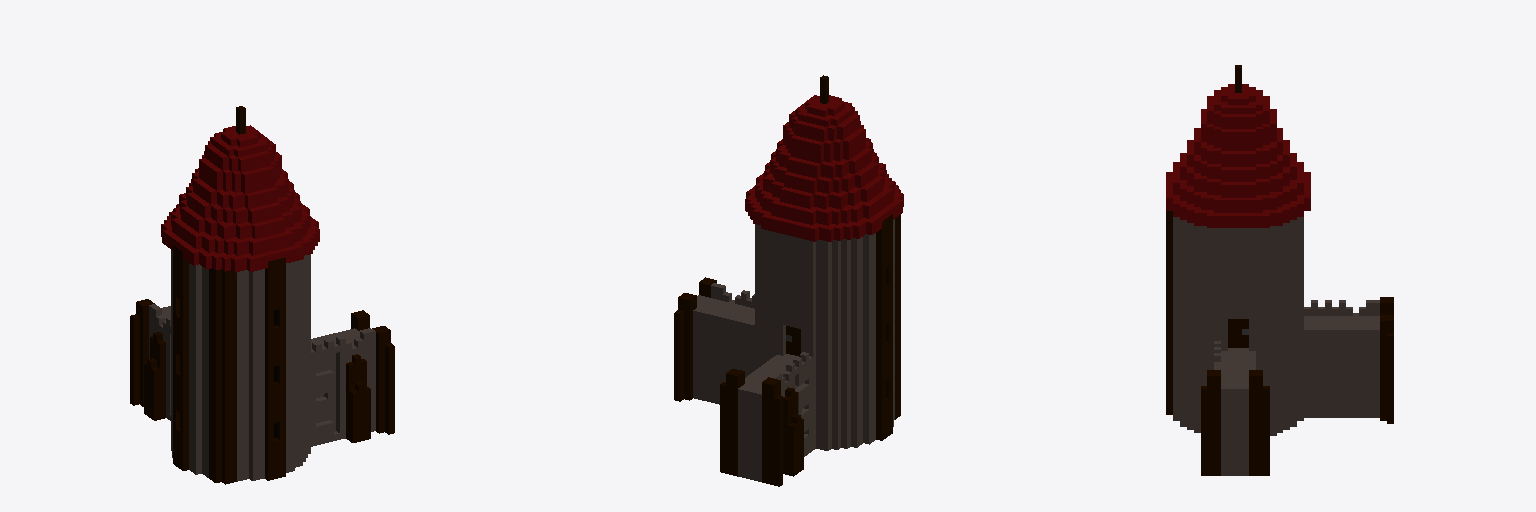
3 renders of one model, left to right at view 1: azimuth 30°, elevation 25°; view 2: azimuth 150°, elevation 25°; view 3: azimuth 270°, elevation 25°, orthographic.
Size of the model in its own units: 33 by 55 by 33.
1 materials, 1 textured.